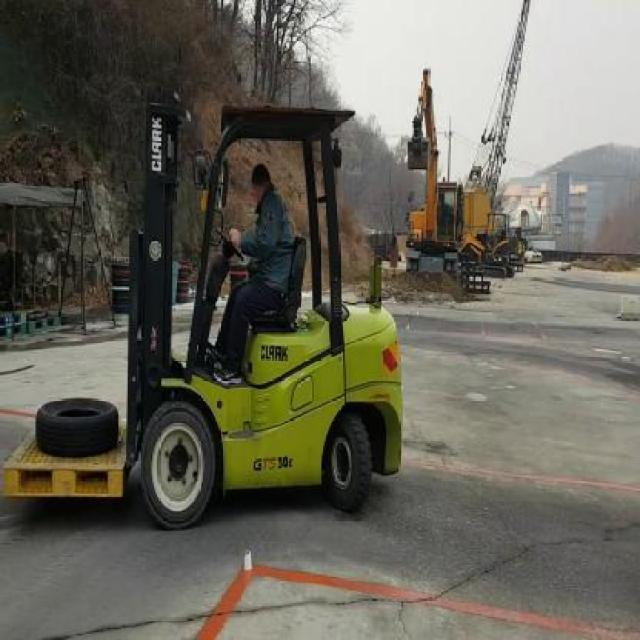forklift: (128, 105, 404, 522)
